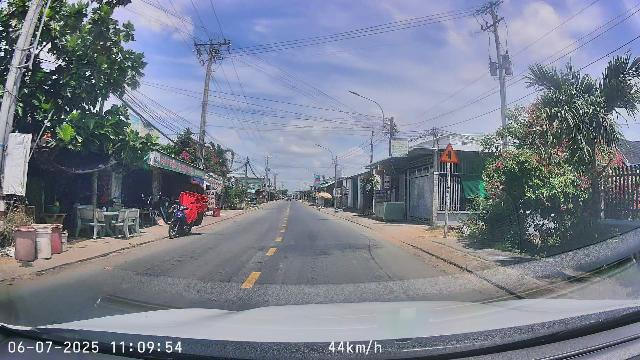207-giao-nhau-voi-duong-khong-uu-tien: (440, 143, 459, 164)
